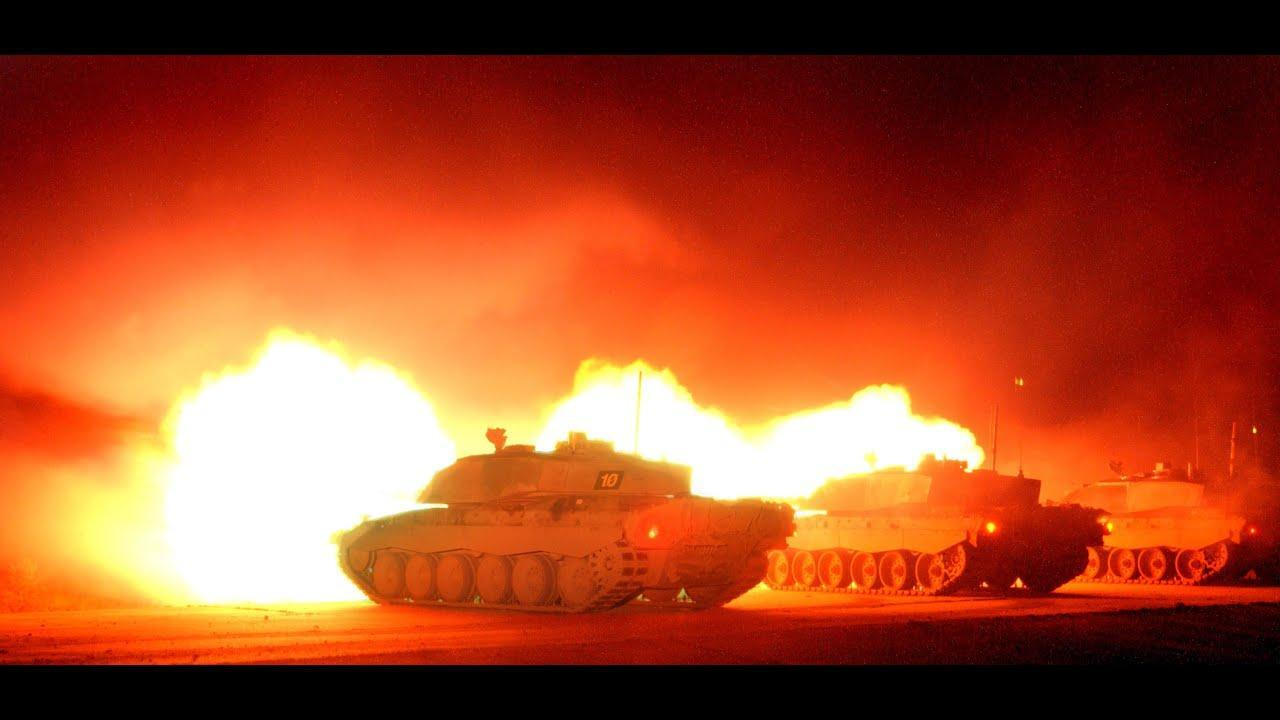tank: (326, 423, 796, 619), (760, 451, 1109, 602), (1052, 459, 1280, 592)
